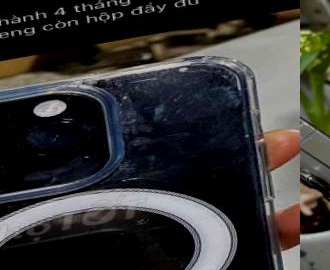scratch: (53, 39, 271, 195), (0, 106, 103, 195), (300, 105, 330, 165)
